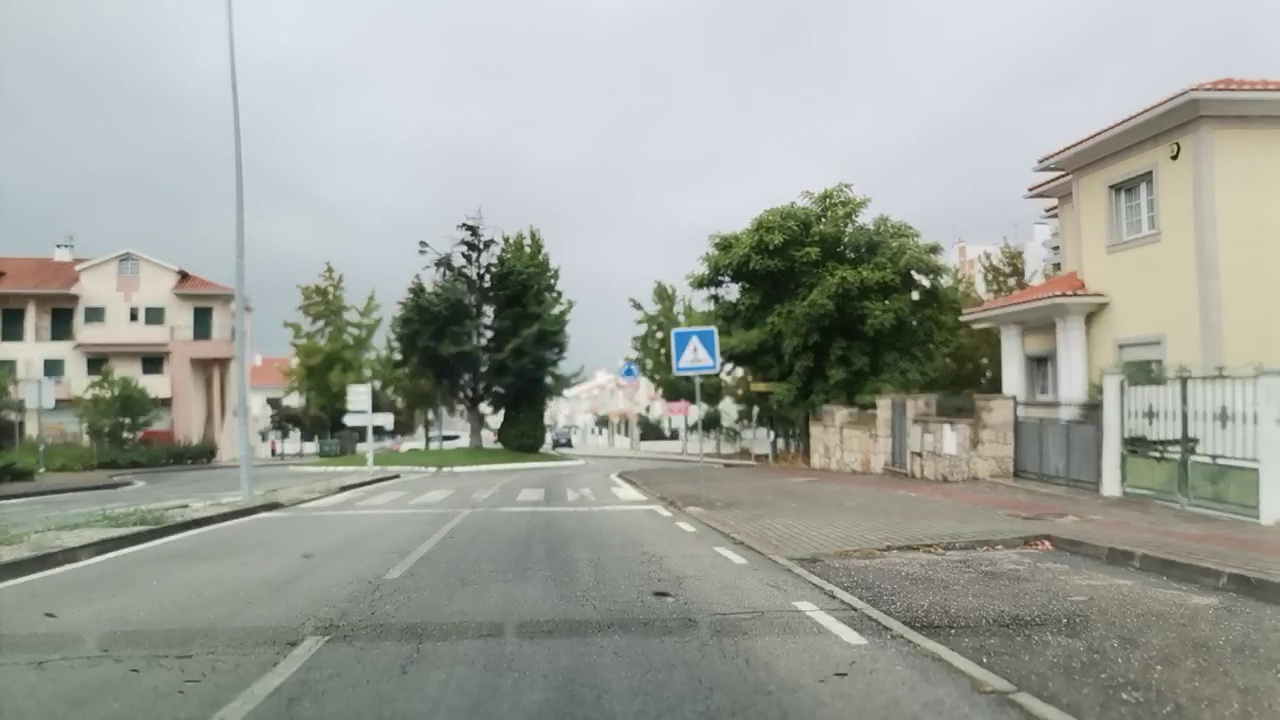Stairs: (309, 485, 646, 507)
